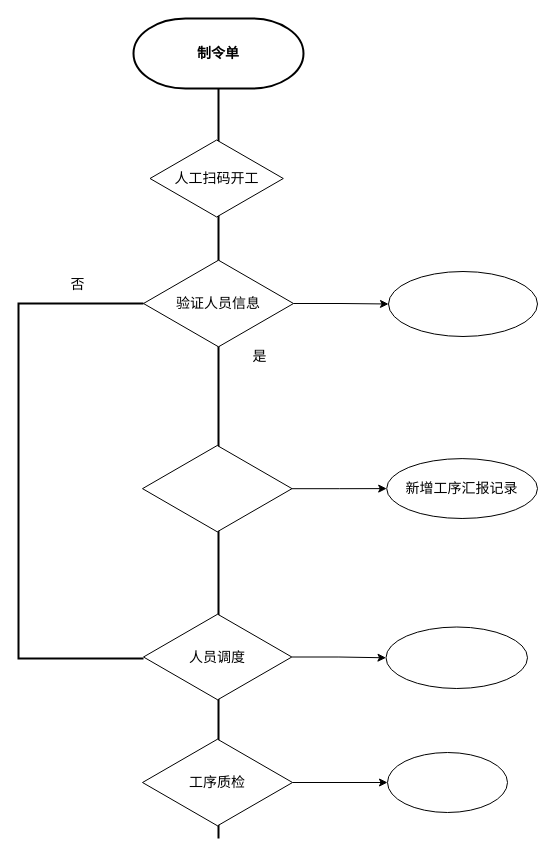
The diagram is 555 pixels wide and 856 high, and some of its shapes have lost their labels. The shapes that lost their labels are listed below. From the top down, each one's centre as x and y in pixels, then its label:
At [463,303]: "查询班组人员信息".
At [217,488]: "工序进度汇报进度".
At [447,782]: "质检管理".
